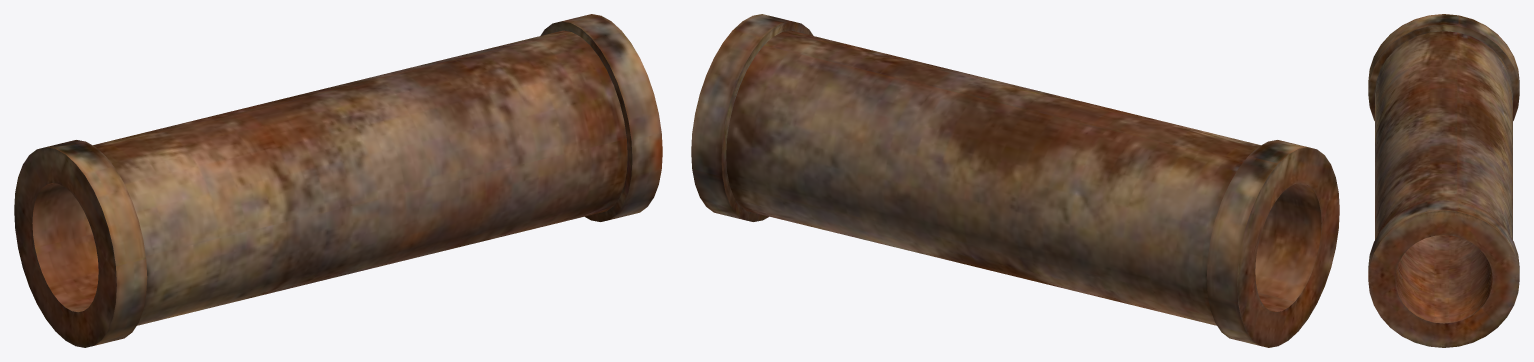
File: old_pipe_05.glb
The picture shows the model from 3 angles, left to right: view 1: azimuth 30°, elevation 25°; view 2: azimuth 150°, elevation 25°; view 3: azimuth 270°, elevation 25°; orthographic projection. The views are drawn at different scales.
Parts seen in each view (by area): view 1: old_pipe_05; view 2: old_pipe_05; view 3: old_pipe_05.
Part boxes in pixels (left/top/right/bottom): old_pipe_05: left=14, top=14, right=662, bottom=347; old_pipe_05: left=691, top=14, right=1339, bottom=347; old_pipe_05: left=1368, top=14, right=1519, bottom=347.
Size of what is drawn, in the model's own units: 0.2588 by 0.0843 by 0.0843.
Materials: 1 (1 with a texture image).
